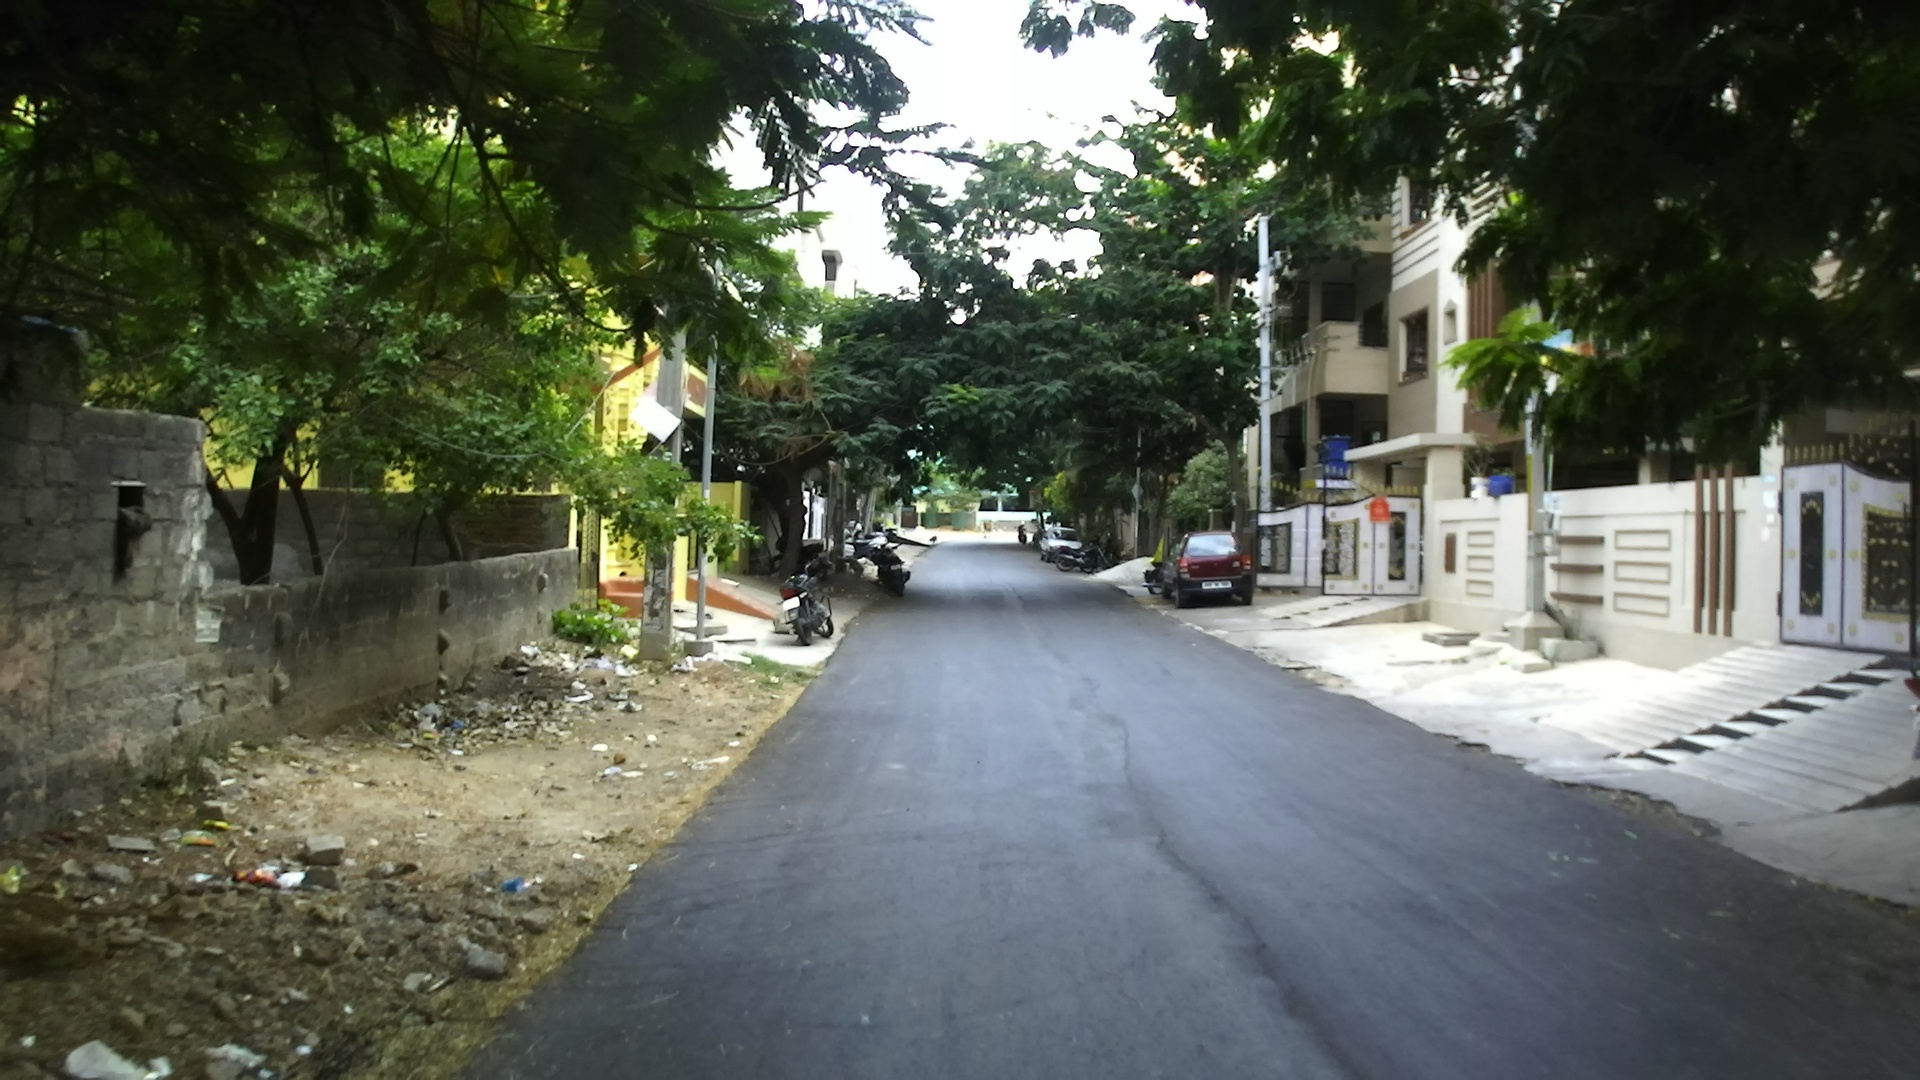vehicle: (1164, 533, 1254, 609), (847, 524, 940, 591), (847, 525, 914, 585), (1039, 530, 1087, 571)
